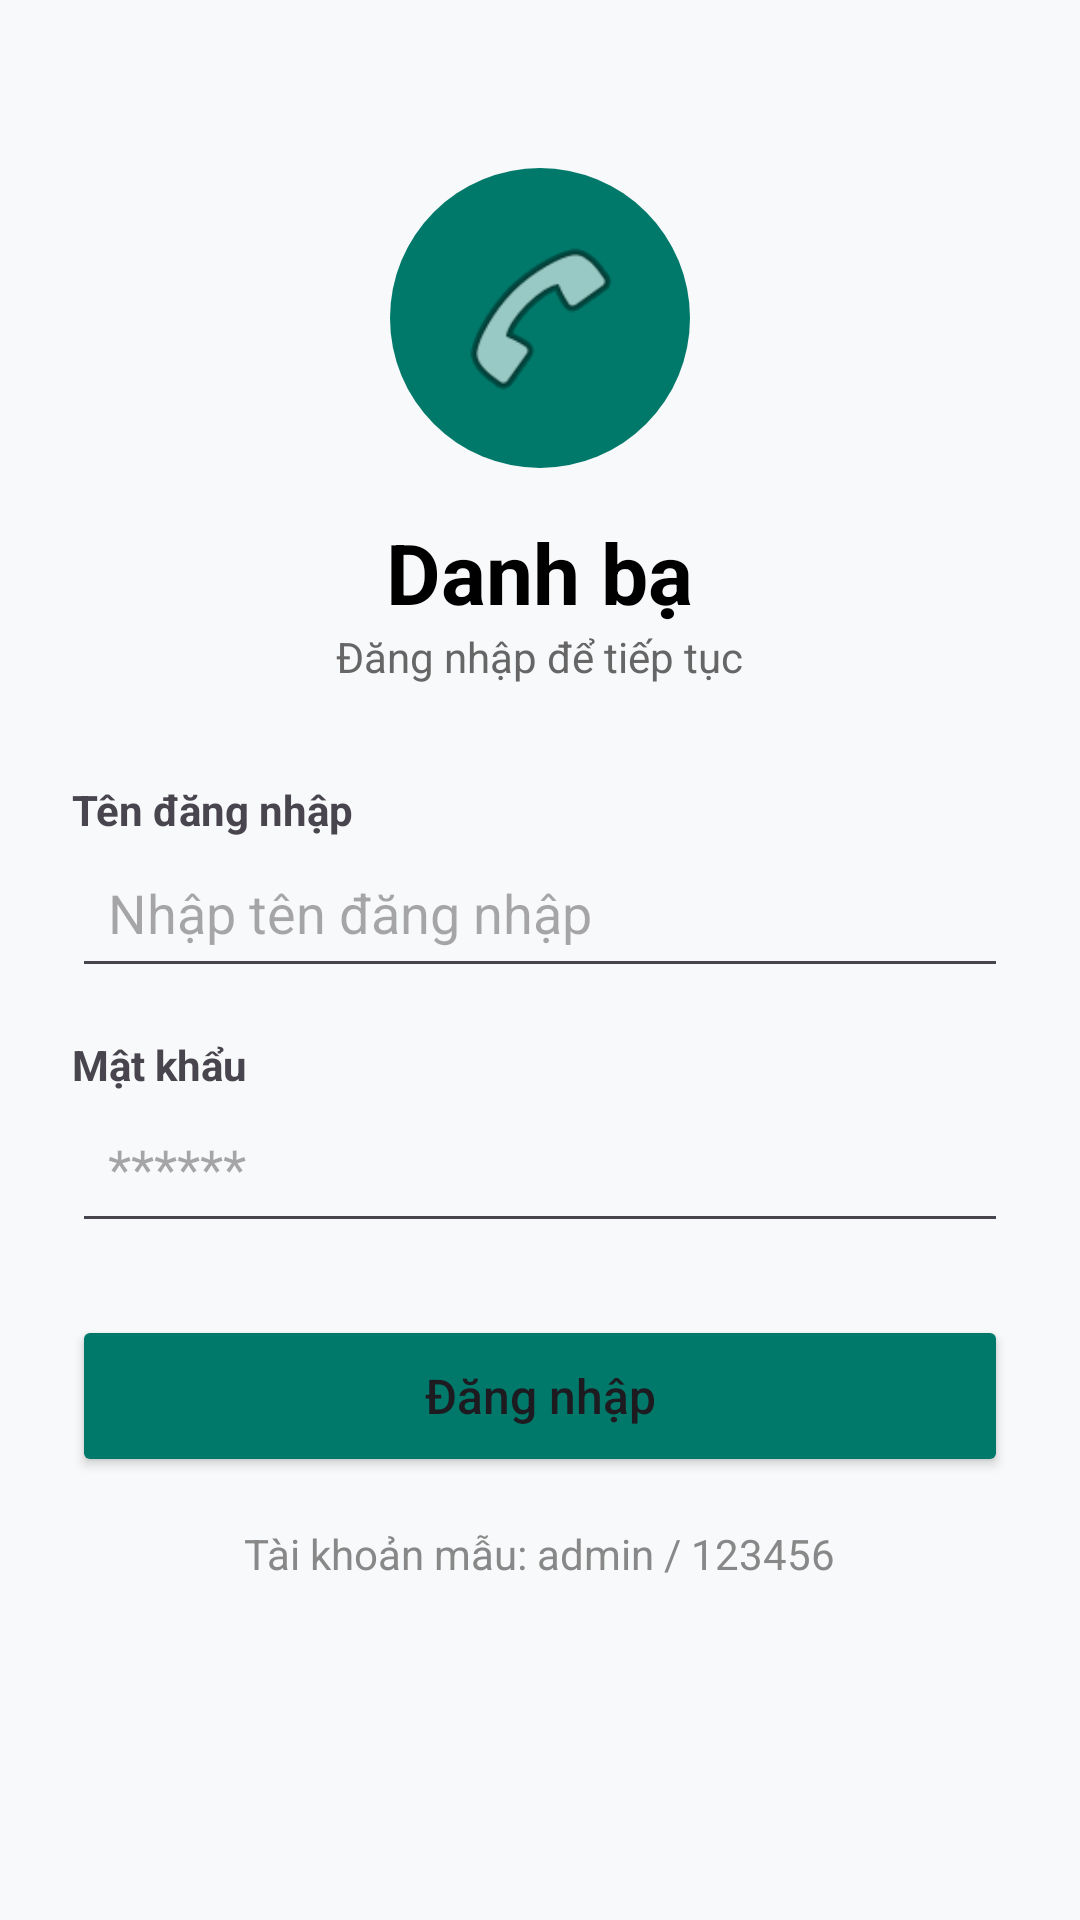

Where icons sit on this 1080px×1920px app screen, as bbox=[x1, y1, x2, y2]:
call: bbox=[390, 168, 690, 468]
